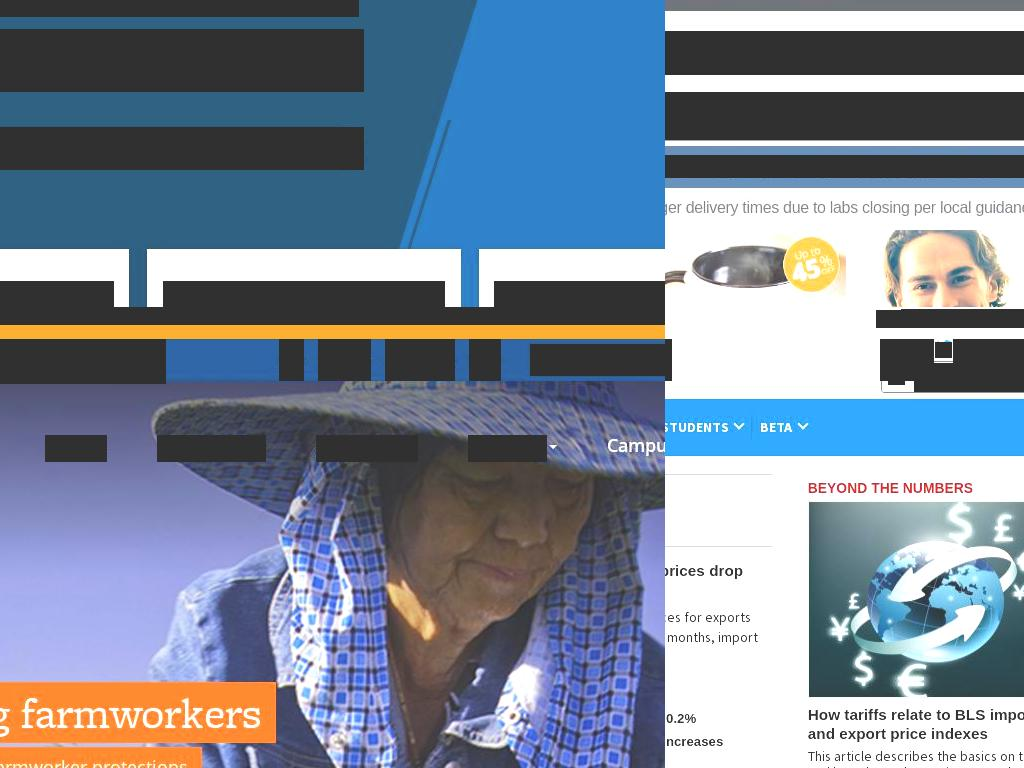button: (665, 230, 846, 307), (163, 281, 445, 307), (743, 92, 846, 140), (845, 92, 948, 140), (665, 92, 744, 140), (947, 92, 1024, 140), (40, 339, 111, 384), (157, 435, 266, 462), (385, 339, 455, 381), (316, 435, 418, 462), (876, 310, 1024, 328), (111, 339, 166, 384), (468, 435, 557, 462), (318, 339, 371, 381), (665, 414, 744, 441), (0, 339, 40, 384), (45, 435, 107, 462), (607, 435, 665, 462), (469, 339, 501, 381), (760, 414, 807, 441), (279, 339, 304, 381)
field: (665, 31, 1024, 75), (0, 127, 364, 170), (530, 344, 665, 376), (914, 363, 1024, 392), (888, 369, 905, 385)
heading: (0, 29, 364, 92), (0, 682, 262, 743), (807, 705, 1024, 742), (0, 0, 359, 17), (807, 479, 973, 496), (665, 705, 797, 723)
image: (807, 500, 1024, 696), (665, 500, 803, 696), (665, 230, 846, 307), (163, 281, 445, 307), (883, 310, 901, 328), (935, 342, 952, 358)
link: (0, 747, 188, 768), (226, 307, 443, 325), (958, 339, 1024, 381), (880, 339, 934, 381), (665, 761, 696, 768)
text: (665, 155, 1024, 178), (665, 199, 1024, 216), (665, 727, 801, 768), (807, 746, 1024, 768), (157, 435, 256, 462), (316, 435, 408, 462), (901, 309, 1024, 327), (468, 435, 547, 462), (607, 435, 665, 462), (45, 435, 97, 462), (665, 418, 732, 436), (760, 418, 796, 436), (953, 339, 959, 381)
